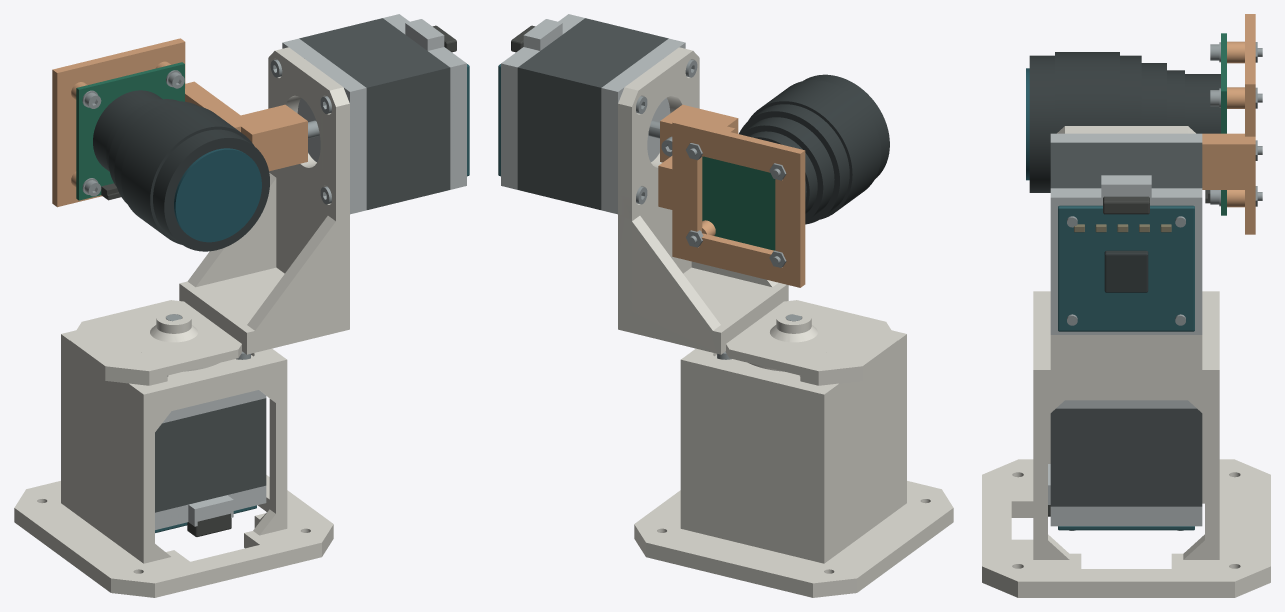
File: gimbal.glb
The picture shows the model from 3 angles, left to right: view 1: azimuth 30°, elevation 25°; view 2: azimuth 150°, elevation 25°; view 3: azimuth 270°, elevation 25°; orthographic projection. The views are drawn at different scales.
Visible parts, largest first — view 1: base, upper, tilt-motor-stack, camera-carrier, yaw-motor-stack, lens-glass, lens-focus, lens-rim, camera-pcb, tilt-motor-front, tilt-motor-rear, camera-cs-seat (+7 smaller); view 2: base, upper, tilt-motor-stack, camera-carrier, camera-pcb, lens-focus, tilt-motor-front, tilt-motor-rear, lens-aperture, lens-rear, lens-rim, camera-cs-ring (+1 smaller); view 3: base, yaw-motor-stack, Tilt_driver_pcb, upper, tilt-motor-stack, camera-carrier, lens-focus, tilt-motor-rear, lens-rim, yaw-motor-rear, camera-cs-seat, Tilt_driver_controller (+10 smaller).
Part boxes in pixels (<box>): base: <box>14,330,333,597</box>; upper: <box>70,47,349,385</box>; tilt-motor-stack: <box>299,18,450,209</box>; camera-carrier: <box>52,38,307,207</box>; yaw-motor-stack: <box>155,398,266,512</box>; lens-glass: <box>174,148,261,242</box>; lens-focus: <box>121,105,253,244</box>; lens-rim: <box>153,129,269,251</box>; camera-pcb: <box>76,62,184,200</box>; tilt-motor-front: <box>282,38,366,214</box>; tilt-motor-rear: <box>383,14,466,189</box>; camera-cs-seat: <box>93,90,162,171</box>; base: <box>634,330,953,597</box>; upper: <box>618,47,897,385</box>; tilt-motor-stack: <box>517,18,668,209</box>; camera-carrier: <box>658,104,805,287</box>; camera-pcb: <box>702,156,775,250</box>; lens-focus: <box>748,80,881,219</box>; tilt-motor-front: <box>601,38,685,214</box>; tilt-motor-rear: <box>501,14,584,189</box>; lens-aperture: <box>739,104,849,224</box>; lens-rear: <box>741,117,834,221</box>; lens-rim: <box>803,74,889,178</box>; camera-cs-ring: <box>749,131,817,213</box>; base: <box>982,291,1270,597</box>; yaw-motor-stack: <box>1050,408,1202,506</box>; Tilt_driver_pcb: <box>1058,205,1194,331</box>; upper: <box>1050,126,1202,400</box>; tilt-motor-stack: <box>1050,142,1202,188</box>; camera-carrier: <box>1202,14,1255,234</box>; lens-focus: <box>1055,52,1119,133</box>; tilt-motor-rear: <box>1050,188,1202,334</box>; lens-rim: <box>1029,55,1054,192</box>; yaw-motor-rear: <box>1050,506,1202,526</box>; camera-cs-seat: <box>1185,74,1220,133</box>; Tilt_driver_controller: <box>1104,250,1148,292</box>.
Size of the model in its own units: 0.138 by 0.151 by 0.08.
